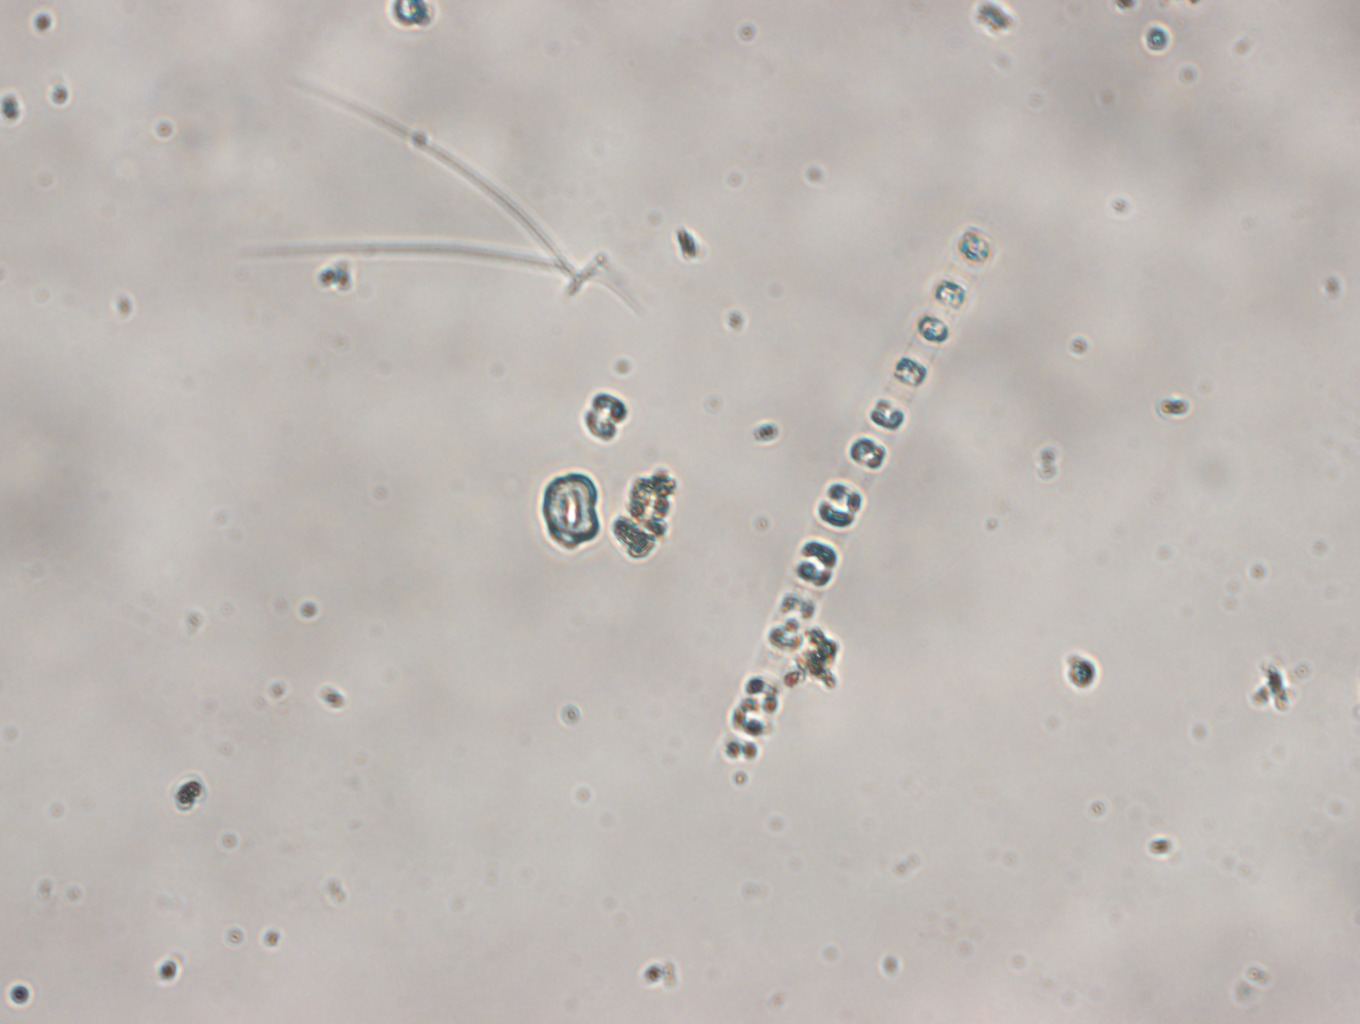chaetoceros: (294, 84, 656, 329)
skeletonema: (717, 222, 1000, 776)
